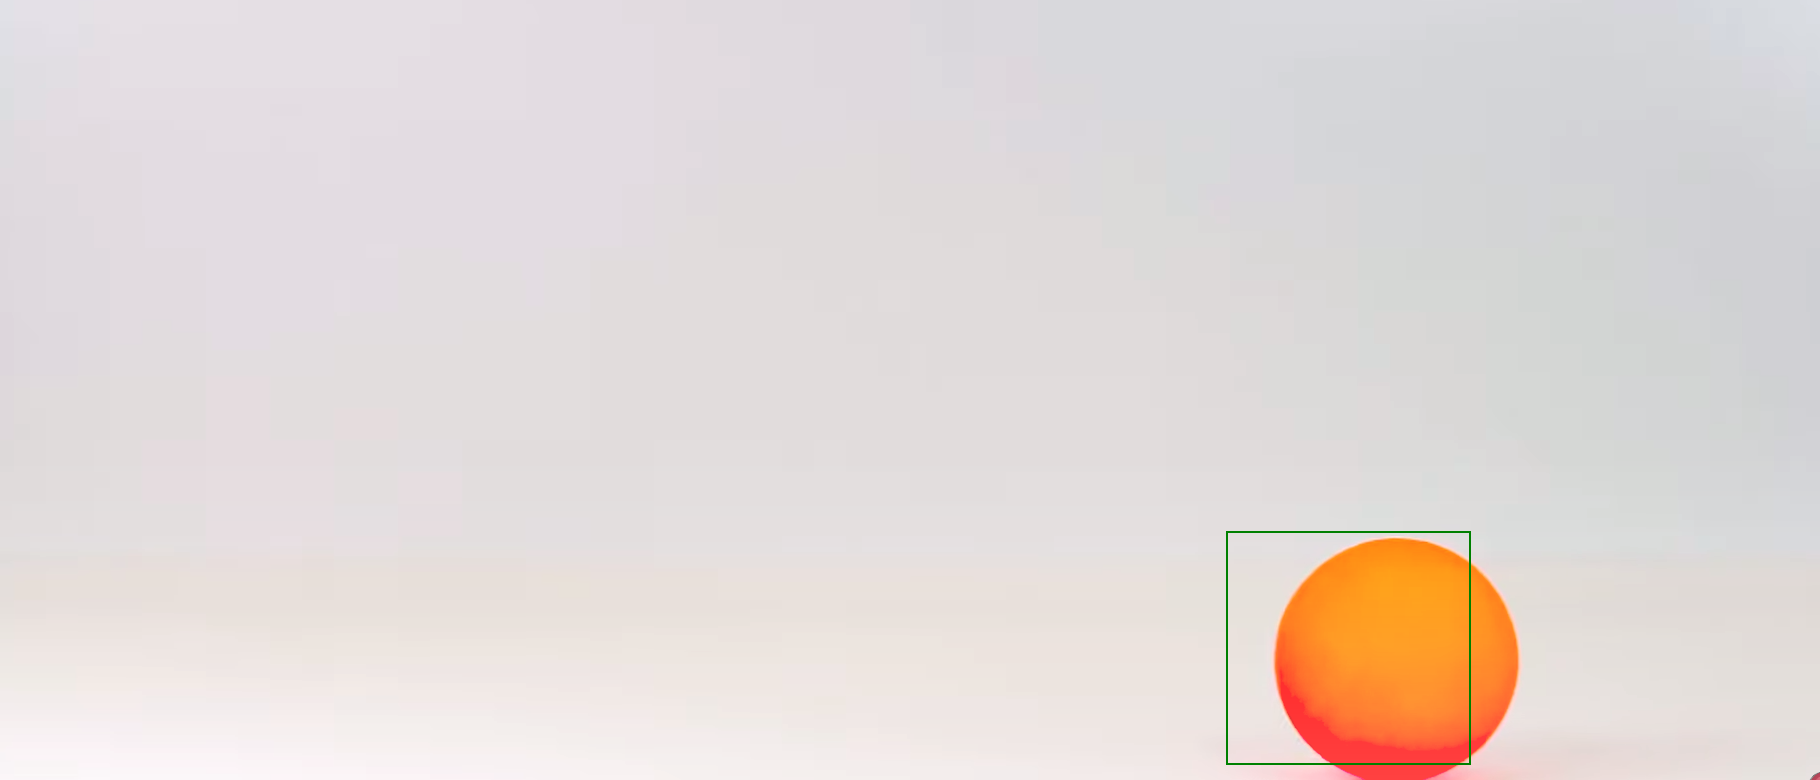Circle: (1273, 537, 1521, 780)
